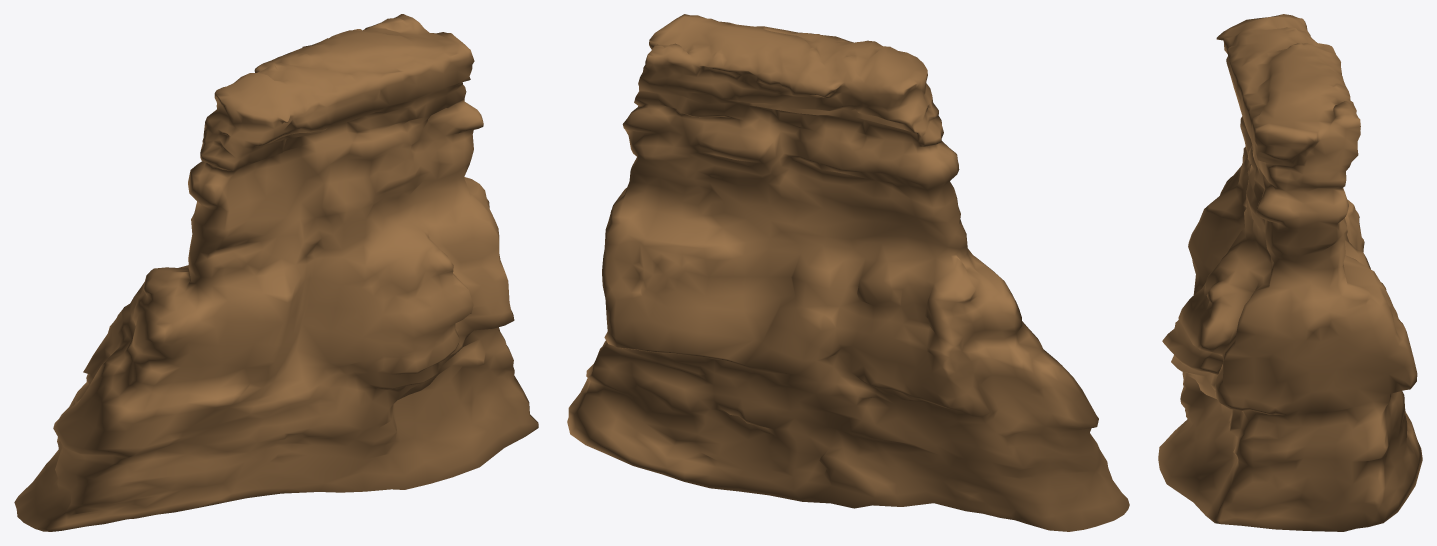
File: MSH_Rocks_Cliff_07_b.FBX
The picture shows the model from 3 angles, left to right: view 1: azimuth 30°, elevation 25°; view 2: azimuth 150°, elevation 25°; view 3: azimuth 270°, elevation 25°; orthographic projection. The views are drawn at different scales.
Parts seen in each view (by area): view 1: MESH_LOD0; view 2: MESH_LOD0; view 3: MESH_LOD0.
Part boxes in pixels (x1,y1,x2,y2): MESH_LOD0: (14, 14, 538, 531); MESH_LOD0: (567, 14, 1129, 531); MESH_LOD0: (1158, 14, 1422, 531).
Size of what is drawn, in the model's own units: 631 by 474 by 290.
